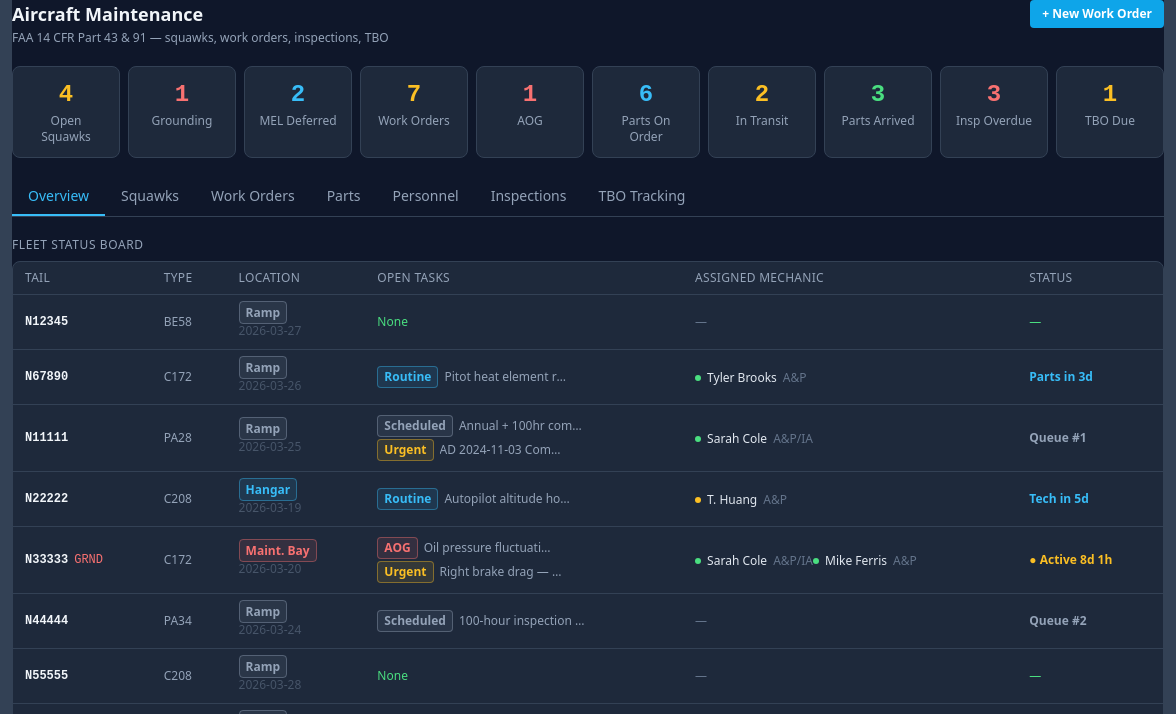
Scenario: <Maintenance /> Work Orders — personnel and certificates › shows no-technician warning for wo-007 (unassigned performer)
Click the tab "Work Orders".
click(253, 197)  # box [195, 178, 311, 216]
(page scrolled)
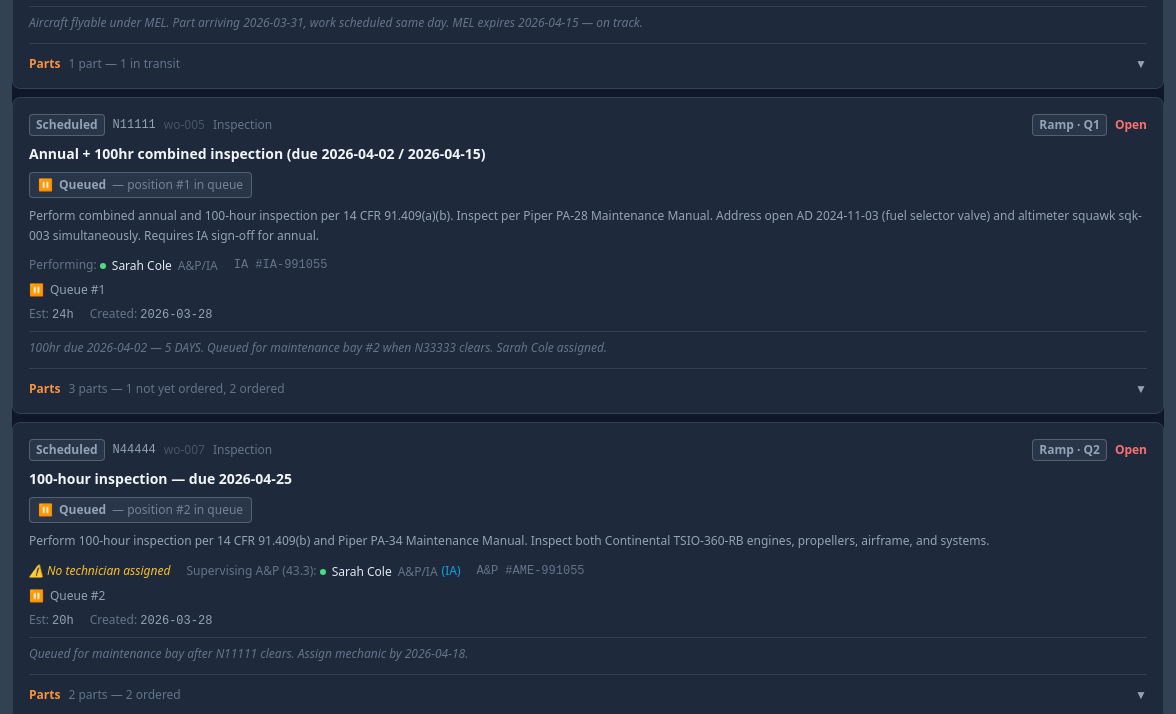
Now the text "⚠ No technician assigned" is shown, box [29, 562, 170, 580]
